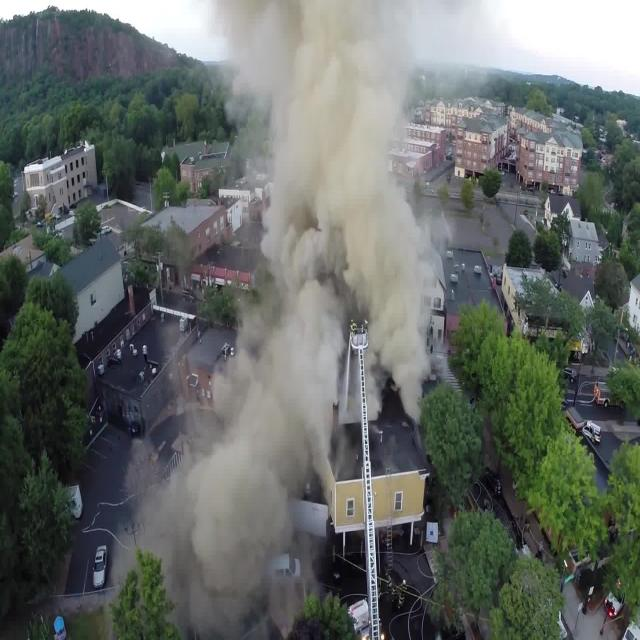Smoke: (110, 0, 449, 640)
